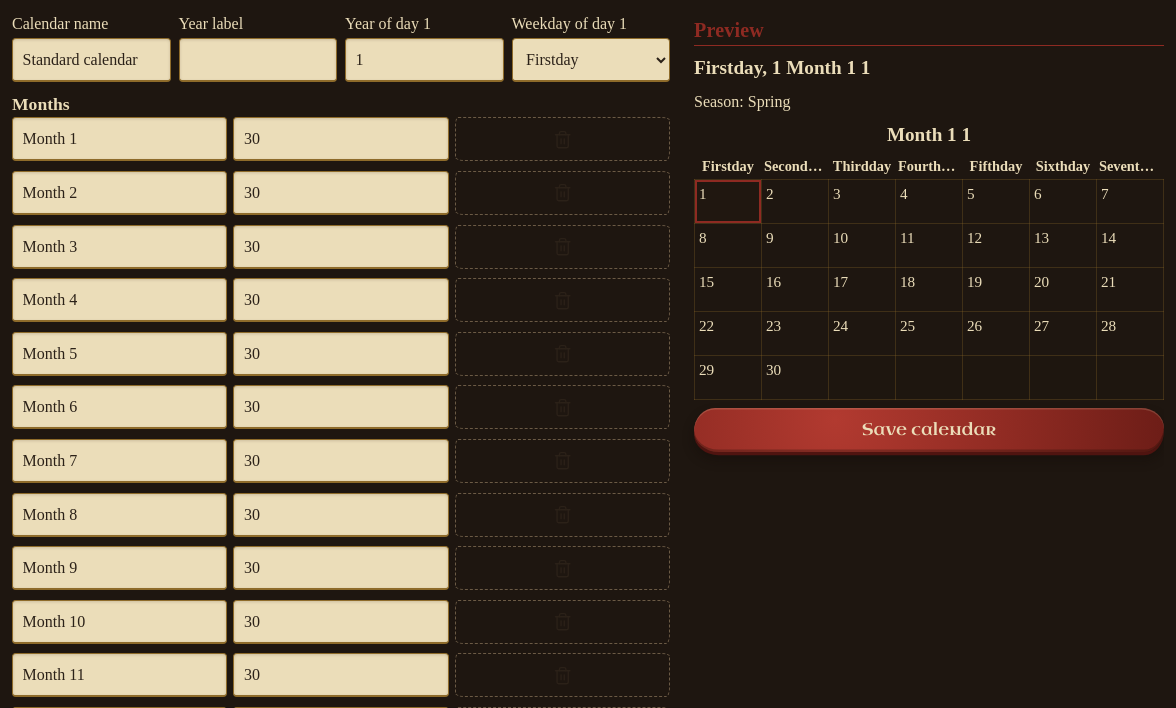
CalendarEditor › says what is wrong instead of previewing, and will not save
Clear the number field named "Month 2: days" at (341, 193), box [234,171,449,215]
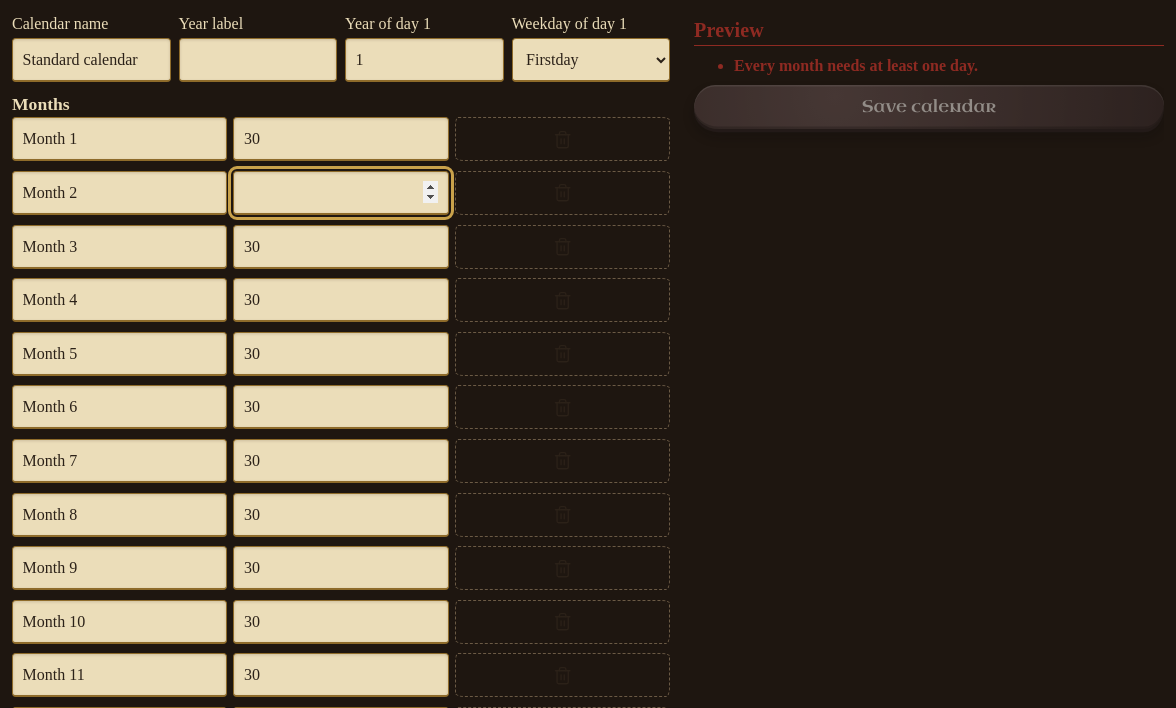
Result: the message shows "at least one day" at [734,57,978,74]
Result: the button "Save calendar" is disabled at [694,85,1164,129]
